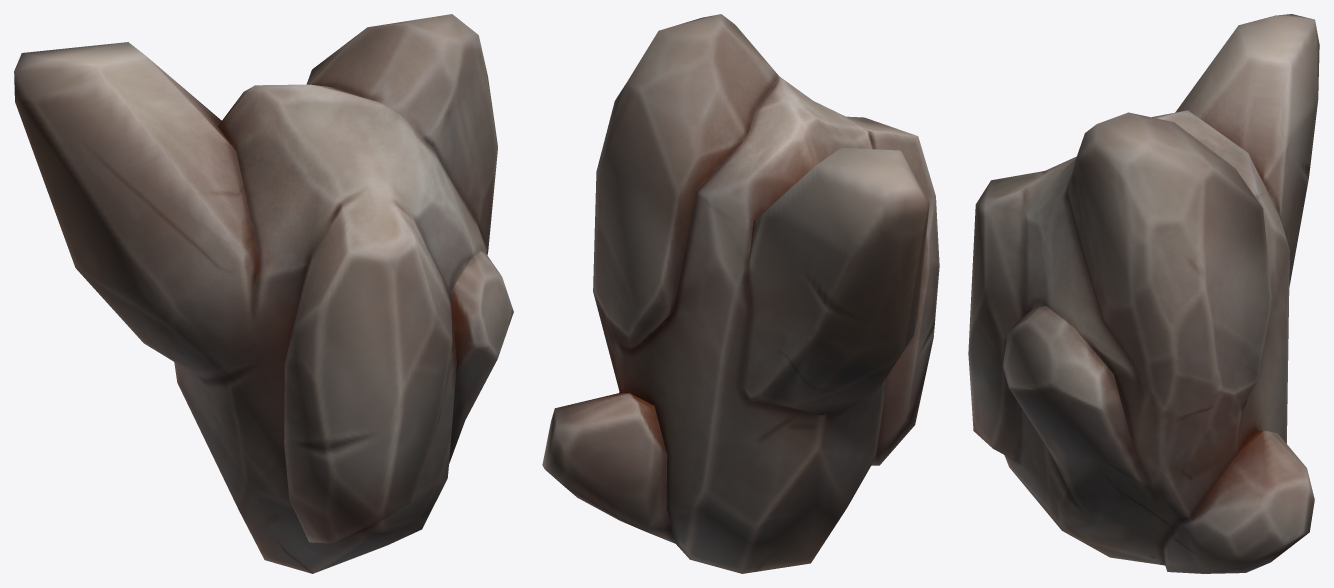
File: SM_Gem_Iron_002.fbx
3 renders of one model, left to right at view 1: azimuth 30°, elevation 25°; view 2: azimuth 150°, elevation 25°; view 3: azimuth 270°, elevation 25°, orthographic. The views are drawn at different scales.
Visible parts, largest first — view 1: SM_Gem_Iron_002; view 2: SM_Gem_Iron_002; view 3: SM_Gem_Iron_002.
Boxes of the visible parts, bbox=[...] form: SM_Gem_Iron_002: bbox=[14, 14, 513, 573]; SM_Gem_Iron_002: bbox=[542, 14, 939, 573]; SM_Gem_Iron_002: bbox=[968, 14, 1319, 573].
Size of the model in its own units: 42.23 by 51.65 by 34.66.
